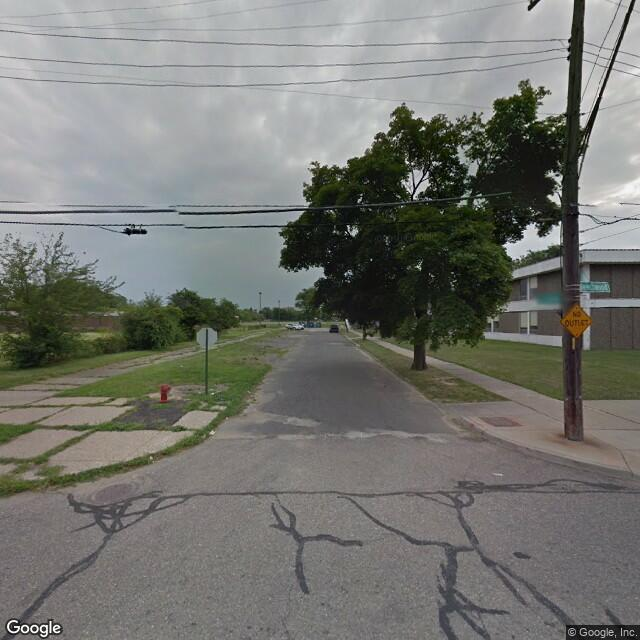litter: (206, 428, 220, 436), (489, 469, 503, 477), (146, 452, 152, 464), (223, 413, 233, 420), (209, 389, 218, 396)
